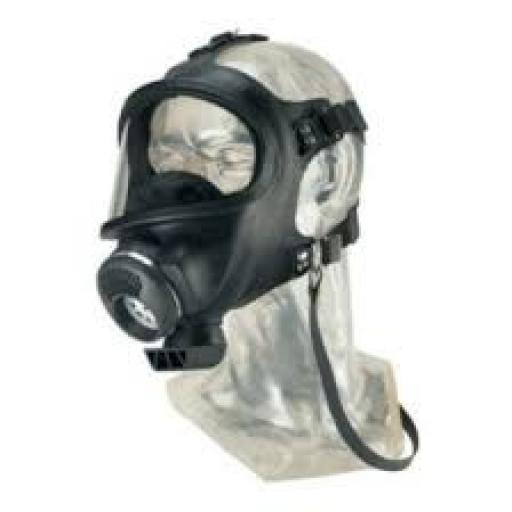mask: (82, 62, 333, 349)
